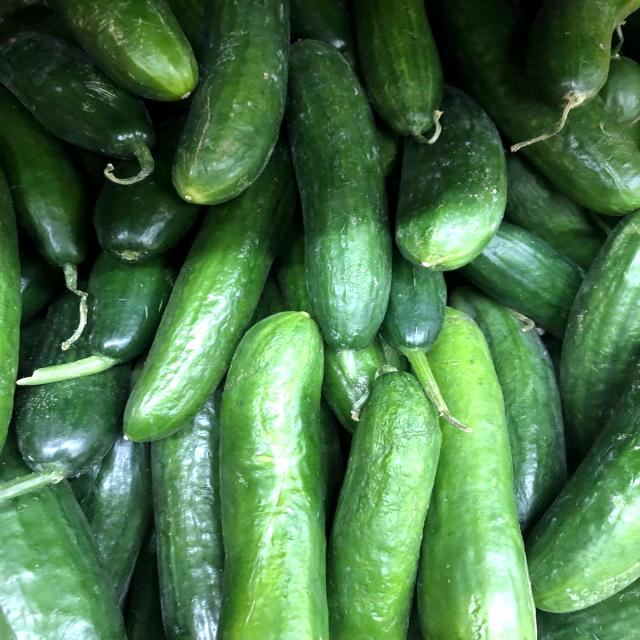cucumber: (258, 28, 406, 403), (202, 301, 354, 640), (321, 359, 447, 640)
